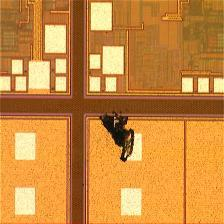PARTICLE: (99, 110, 138, 164)
